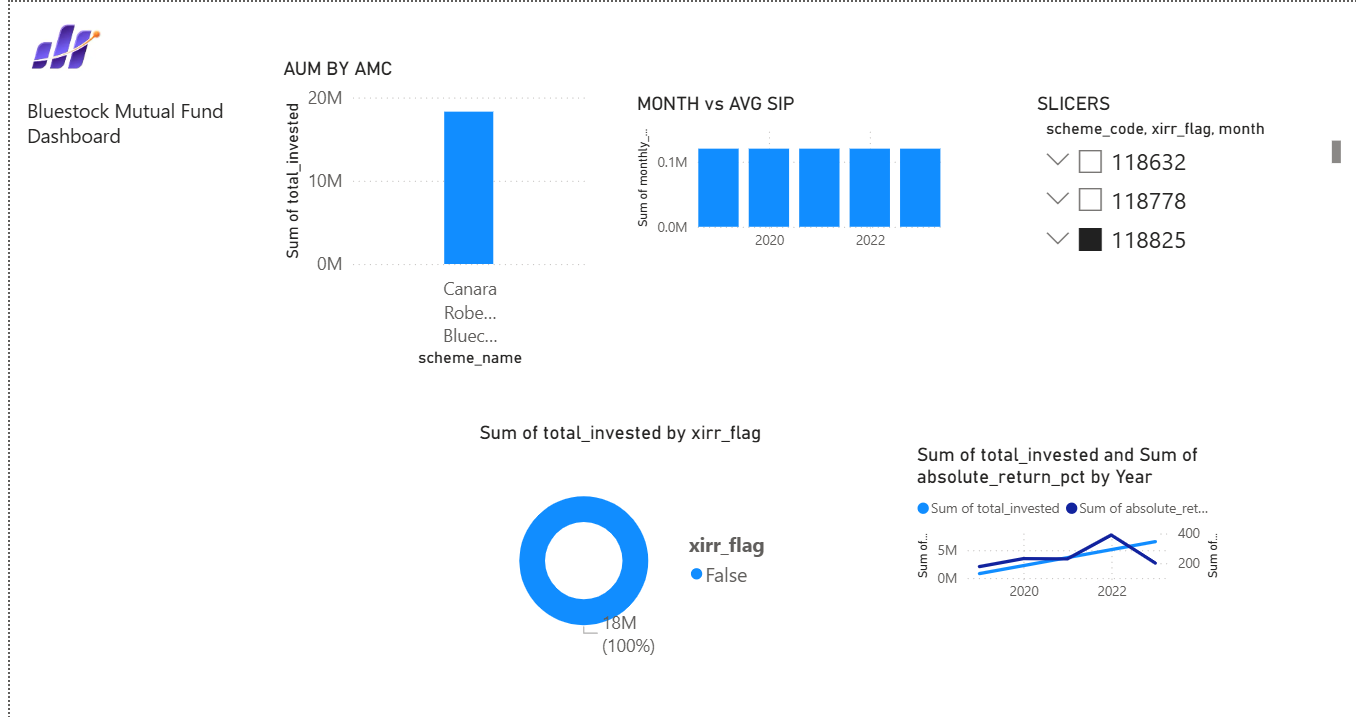

The page's visual inventory and layout, read from the dashboard file:
{"tool":"powerbi","page":{"name":"Investor Analytics","canvas":[1280,720],"ordinal":2},"visuals":[{"type":"columnChart","title":"AUM BY AMC","fields":{"Category":["sip_data.scheme_name"],"Y":["Sum(sip_data.total_invested)"]},"box":[237.8,48.9,280,280],"z":0},{"type":"donutChart","fields":{"Category":["sip_data.xirr_flag"],"Y":["Sum(sip_data.total_invested)"]},"box":[412.2,372.2,280,230],"z":1000},{"type":"clusteredColumnChart","title":"MONTH vs AVG SIP","fields":{"Category":["sip_data.month.Variation.Date Hierarchy.Year","sip_data.month.Variation.Date Hierarchy.Quarter","sip_data.month.Variation.Date Hierarchy.Month","sip_data.month.Variation.Date Hierarchy.Day"],"Y":["Sum(sip_data.monthly_sip_amt)"]},"box":[552.2,80,280,150],"z":2000},{"type":"lineChart","fields":{"Category":["sip_data.month.Variation.Date Hierarchy.Year","sip_data.month.Variation.Date Hierarchy.Quarter","sip_data.month.Variation.Date Hierarchy.Month","sip_data.month.Variation.Date Hierarchy.Day"],"Y":["Sum(sip_data.total_invested)"],"Y2":["Sum(sip_data.absolute_return_pct)"]},"box":[801.1,392.2,280,150],"z":3000},{"type":"slicer","title":"SLICERS","fields":{"Values":["sip_data.scheme_code","sip_data.xirr_flag","sip_data.month"]},"box":[907.8,80,280,150],"z":4000},{"type":"image","box":[10,0,78.9,80],"z":4001},{"type":"textbox","box":[10,80,201.1,93.3],"z":4002}]}

Visuals, with their boxes on the page's 1280x720 design canvas (x1, y1, x2, y2). These are canvas units, not pixel positions in the 1356x717 screenshot, which may show the page scaled, cropped or inside an application window:
"AUM BY AMC" columnChart: pyautogui.locateOnScreen(238, 49, 518, 329)
donutChart - sip_data.xirr_flag x Sum(sip_data.total_invested): pyautogui.locateOnScreen(412, 372, 692, 602)
"MONTH vs AVG SIP" clusteredColumnChart: pyautogui.locateOnScreen(552, 80, 832, 230)
lineChart - sip_data.month.Variation.Date Hierarchy.Year x sip_data.month.Variation.Date Hierarchy.Quarter: pyautogui.locateOnScreen(801, 392, 1081, 542)
"SLICERS" slicer: pyautogui.locateOnScreen(908, 80, 1188, 230)
image: pyautogui.locateOnScreen(10, 0, 89, 80)
textbox: pyautogui.locateOnScreen(10, 80, 211, 173)
